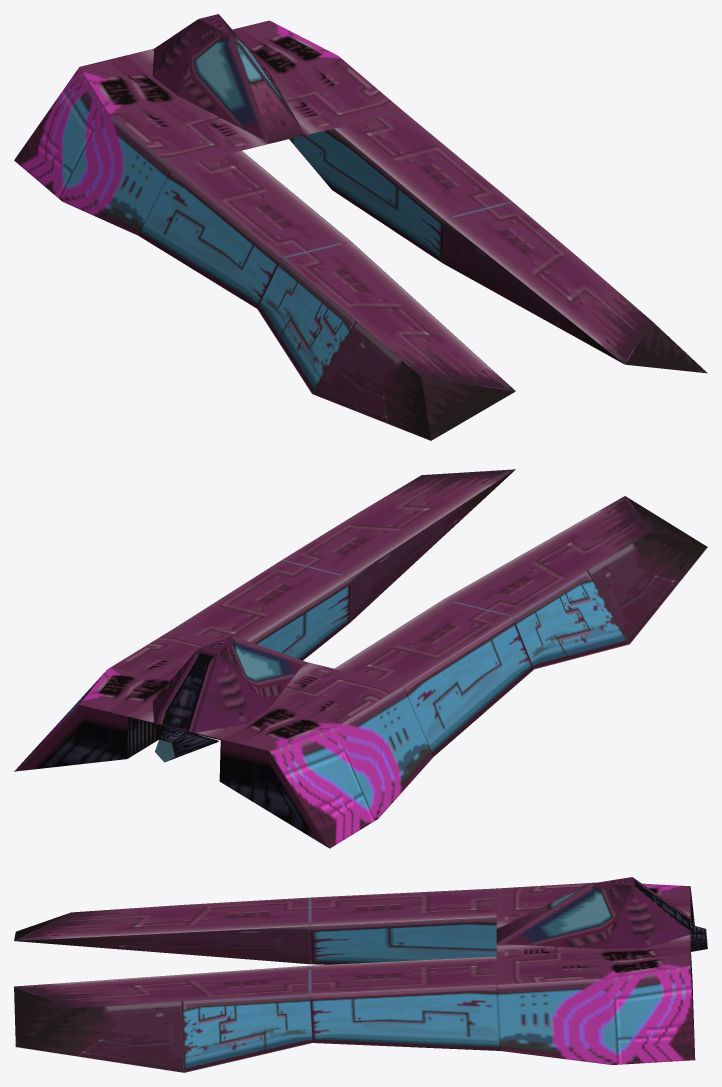
File: Qirex.obj
The picture shows the model from 3 angles, top to bottom: view 1: azimuth 30°, elevation 25°; view 2: azimuth 150°, elevation 25°; view 3: azimuth 270°, elevation 25°; orthographic projection. The views are drawn at different scales.
Visible parts, largest first — view 1: GameObject, textureEditorIsolateSelectSet GameObject; view 2: GameObject, textureEditorIsolateSelectSet GameObject; view 3: GameObject, textureEditorIsolateSelectSet GameObject.
Boxes of the visible parts, x1,y1,x2,y2 form: GameObject: (14, 14, 707, 440); textureEditorIsolateSelectSet GameObject: (177, 14, 304, 142); GameObject: (14, 469, 707, 848); textureEditorIsolateSelectSet GameObject: (219, 636, 305, 707); GameObject: (14, 877, 707, 1072); textureEditorIsolateSelectSet GameObject: (497, 883, 631, 949).
Size of the model in its own units: 3.44 by 1.52 by 7.62.
Materials: 1 (1 with a texture image).
